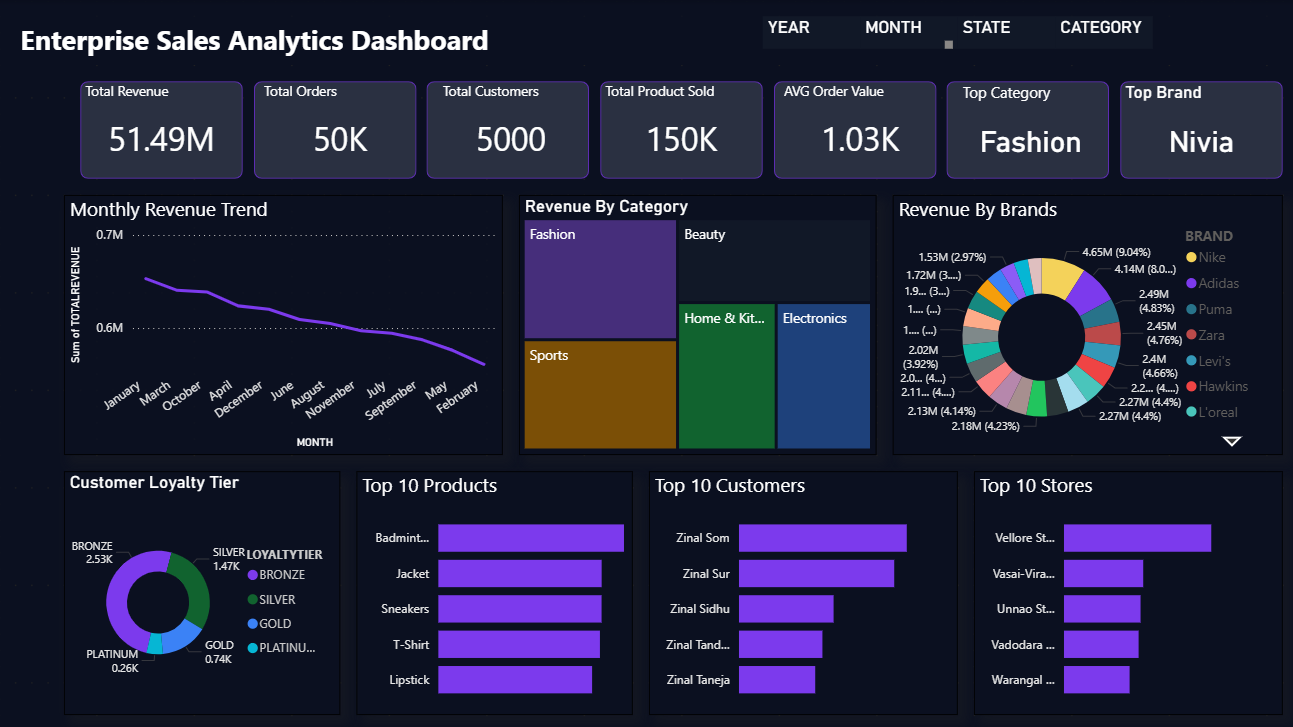

The page's visual inventory and layout, read from the dashboard file:
{"tool":"powerbi","page":{"name":"Page 1","canvas":[1280,720],"ordinal":0},"visuals":[{"type":"textbox","box":[16,16,1264,48],"z":0},{"type":"shape","box":[80,80,160,96],"z":1000},{"type":"shape","box":[250.7,80,160,96],"z":2000},{"type":"shape","box":[421.3,80,160,96],"z":3000},{"type":"shape","box":[592,80,160,96],"z":4000},{"type":"shape","box":[762.7,80,160,96],"z":5000},{"type":"shape","box":[933.3,80,160,96],"z":6000},{"type":"shape","box":[1104,80,160,96],"z":7000},{"type":"listSlicer","fields":{"Values":["Monthely Revenue.YEAR"]},"box":[752,16,96,32],"z":8000},{"type":"listSlicer","fields":{"Values":["Monthely Revenue.MONTH"]},"box":[848,16,96,32],"z":9000},{"type":"listSlicer","fields":{"Values":["Store Performance.STATE"]},"box":[944,16,96,32],"z":10000},{"type":"listSlicer","fields":{"Values":["Product Performance.CATEGORY"]},"box":[1040,16,96,32],"z":11000},{"type":"card","title":" Total Revenue","fields":{"Values":["Sum(Dashboard Summary.TOTALREVENUE)"]},"box":[80,80,160,96],"z":12000},{"type":"card","title":"AVG Order Value","fields":{"Values":["Sum(Dashboard Summary.AVERAGEORDERVALUE)"]},"box":[768,80,160,96],"z":13000},{"type":"card","title":" Total Product Sold","fields":{"Values":["Sum(Dashboard Summary.TOTALPRODUCTSSOLD)"]},"box":[592,80,160,96],"z":14000},{"type":"card","title":" Total Customers","fields":{"Values":["Sum(Dashboard Summary.TOTALCUSTOMERS)"]},"box":[432,80,144,96],"z":15000},{"type":"card","title":" Total Orders","fields":{"Values":["Sum(Dashboard Summary.TOTALORDERS)"]},"box":[256,80,160,96],"z":16000},{"type":"lineChart","title":"Monthly Revenue Trend","fields":{"Category":["Monthely Revenue.MONTH"],"Y":["Sum(Monthely Revenue.TOTALREVENUE)"]},"box":[64,192,432,256],"z":17000},{"type":"treemap","title":"Revenue By Category","fields":{"Group":["Category Performance.CATEGORY"],"Values":["Sum(Category Performance.TOTALREVENUE)"]},"box":[512,192,352,256],"z":18000},{"type":"donutChart","title":"Revenue By Brands","fields":{"Category":["Product Performance.BRAND"],"Y":["Sum(Product Performance.TOTALREVENUE)"]},"box":[880,192,384,256],"z":19000},{"type":"clusteredBarChart","title":"Top 10 Products","fields":{"Category":["Product Performance.PRODUCTNAME"],"Y":["Sum(Product Performance.TOTALREVENUE)"]},"box":[352,464,272,240],"z":20000},{"type":"clusteredBarChart","title":"Top 10 Customers","fields":{"Category":["Customer Insights.CUSTOMERNAME"],"Y":["Sum(Customer Insights.TOTALSPENT)"]},"box":[640,464,304,240],"z":21000},{"type":"clusteredBarChart","title":"Top 10 Stores","fields":{"Category":["Store Performance.STORENAME"],"Y":["Sum(Store Performance.TOTALREVENUE)"]},"box":[960,464,304,240],"z":22000},{"type":"donutChart","title":"Customer Loyalty Tier","fields":{"Category":["Customer Insights.LOYALTYTIER"],"Y":["CountNonNull(Customer Insights.CUSTOMERID)"]},"box":[64,464,272,240],"z":23000},{"type":"card","title":"Top Category","fields":{"Values":["Min(Category Performance.CATEGORY)"]},"box":[944,80,144,96],"z":24000},{"type":"card","title":"Top Brand","fields":{"Values":["Min(Product Performance.BRAND)"]},"box":[1104,80,160,96],"z":25000}]}

Visuals, with their boxes in screenshot pixels (x1, y1, x2, y2), scaled from the page's 1280x720 canvas onto the 1293x727 screenshot:
textbox: Rect(16, 16, 1292, 65)
shape: Rect(81, 81, 242, 178)
shape: Rect(253, 81, 415, 178)
shape: Rect(426, 81, 587, 178)
shape: Rect(598, 81, 760, 178)
shape: Rect(770, 81, 932, 178)
shape: Rect(943, 81, 1104, 178)
shape: Rect(1115, 81, 1277, 178)
listSlicer - Monthely Revenue.YEAR: Rect(760, 16, 857, 48)
listSlicer - Monthely Revenue.MONTH: Rect(857, 16, 954, 48)
listSlicer - Store Performance.STATE: Rect(954, 16, 1051, 48)
listSlicer - Product Performance.CATEGORY: Rect(1051, 16, 1148, 48)
" Total Revenue" card: Rect(81, 81, 242, 178)
"AVG Order Value" card: Rect(776, 81, 937, 178)
" Total Product Sold" card: Rect(598, 81, 760, 178)
" Total Customers" card: Rect(436, 81, 582, 178)
" Total Orders" card: Rect(259, 81, 420, 178)
"Monthly Revenue Trend" lineChart: Rect(65, 194, 501, 452)
"Revenue By Category" treemap: Rect(517, 194, 873, 452)
"Revenue By Brands" donutChart: Rect(889, 194, 1277, 452)
"Top 10 Products" clusteredBarChart: Rect(356, 469, 630, 711)
"Top 10 Customers" clusteredBarChart: Rect(646, 469, 954, 711)
"Top 10 Stores" clusteredBarChart: Rect(970, 469, 1277, 711)
"Customer Loyalty Tier" donutChart: Rect(65, 469, 339, 711)
"Top Category" card: Rect(954, 81, 1099, 178)
"Top Brand" card: Rect(1115, 81, 1277, 178)
